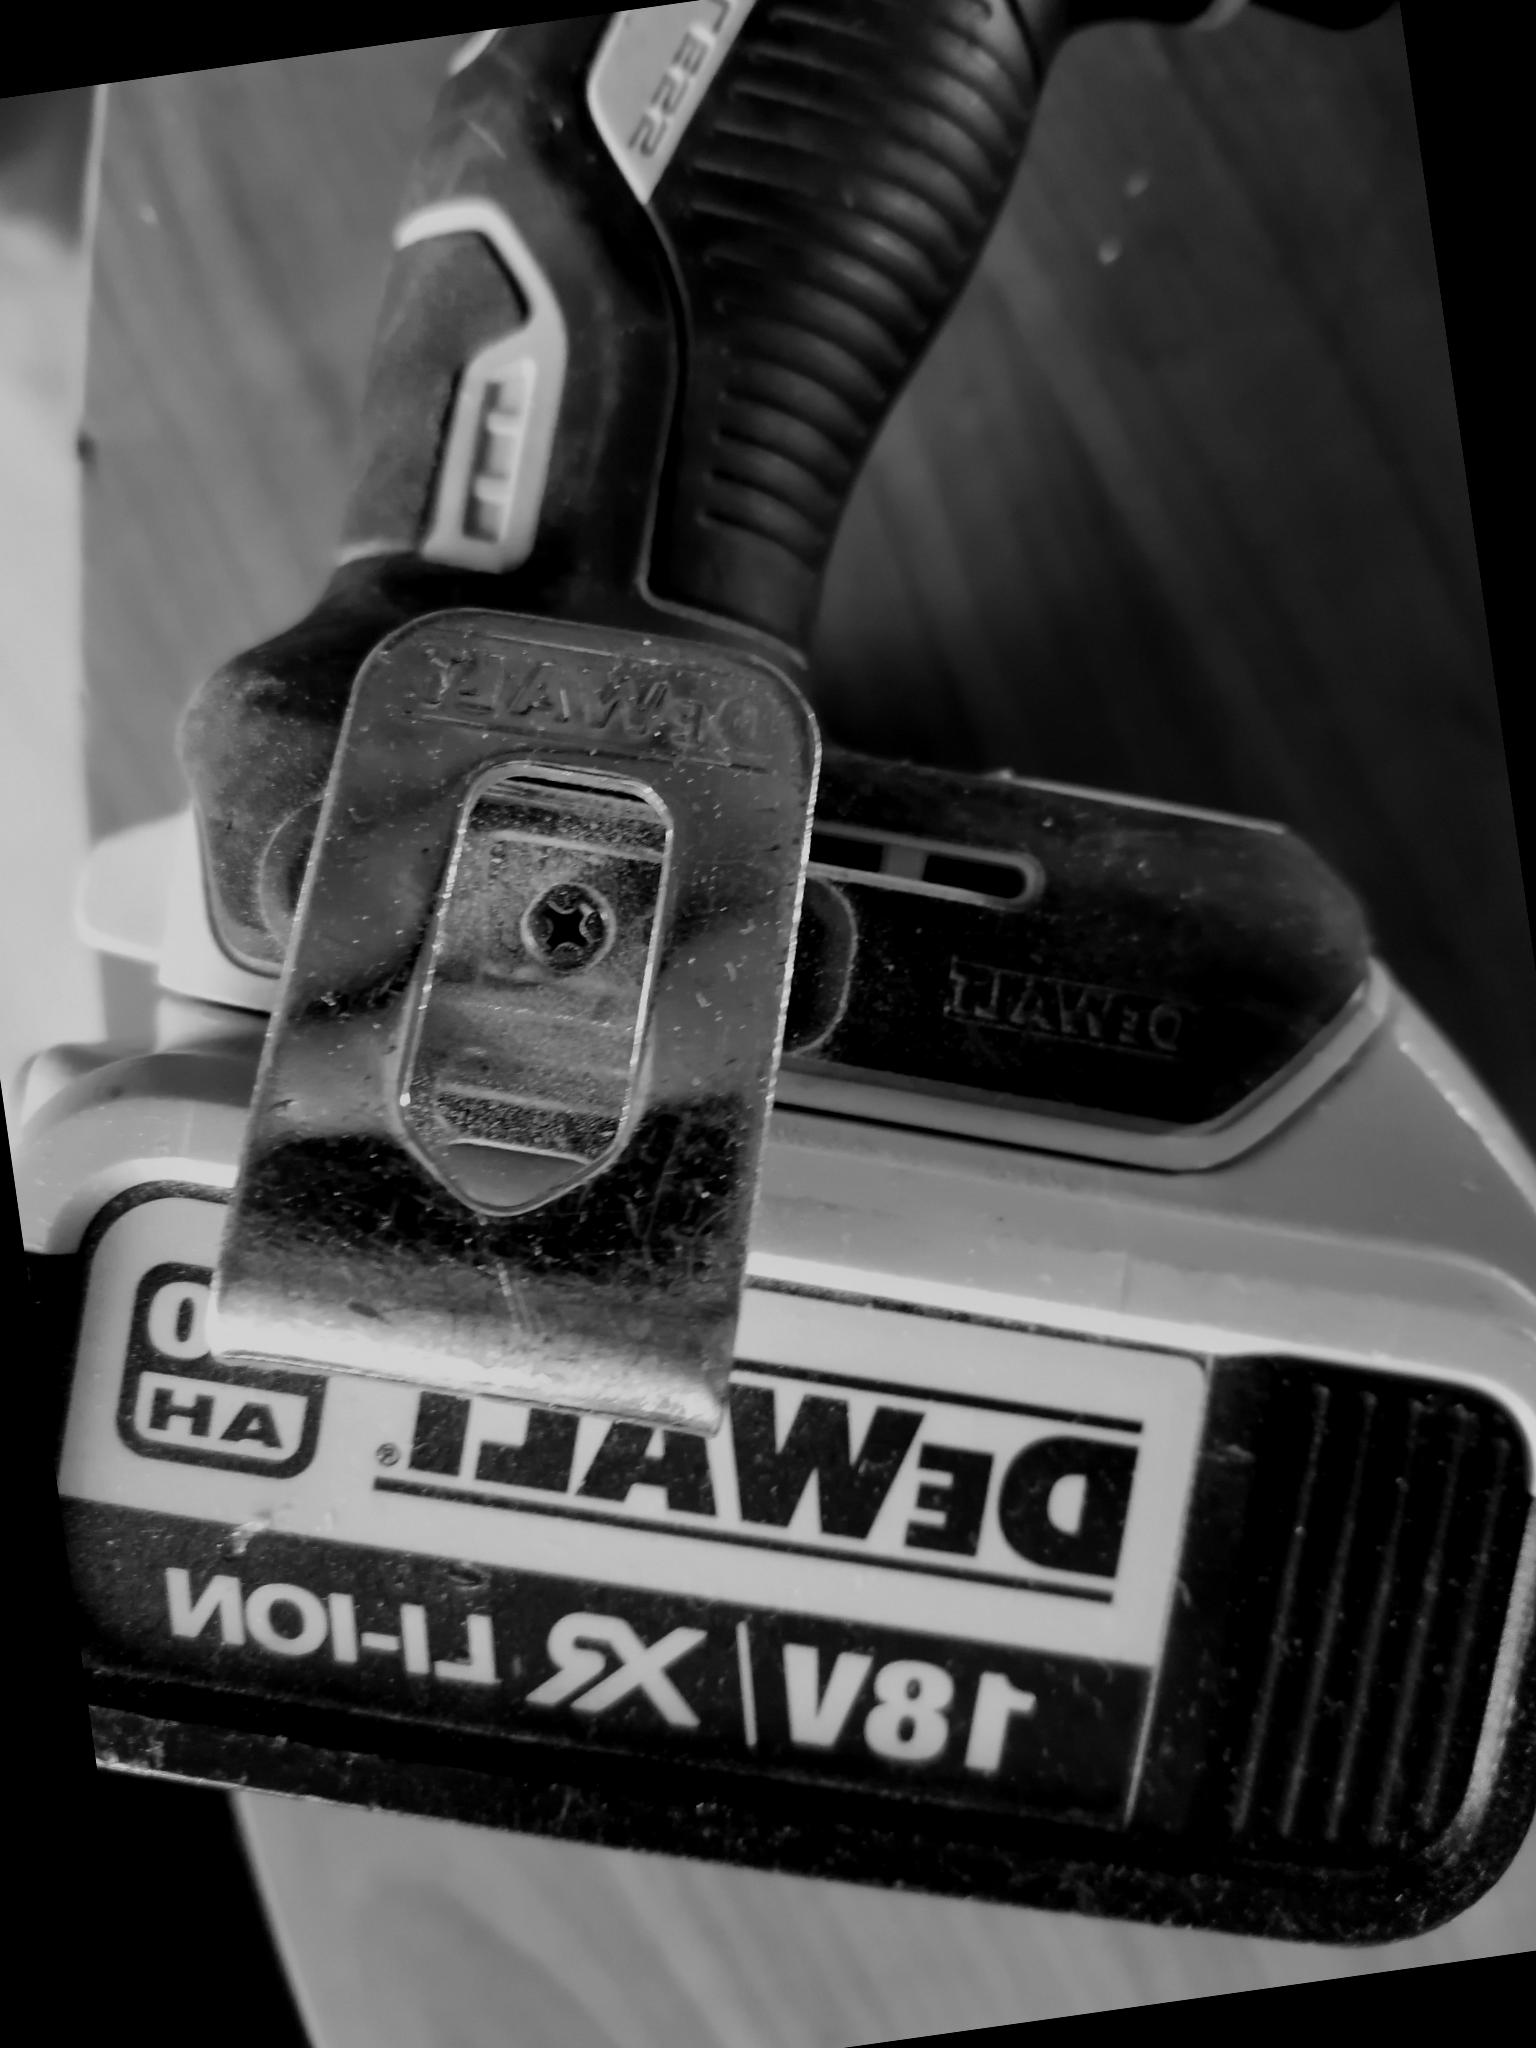screw: (502, 866, 623, 982)
